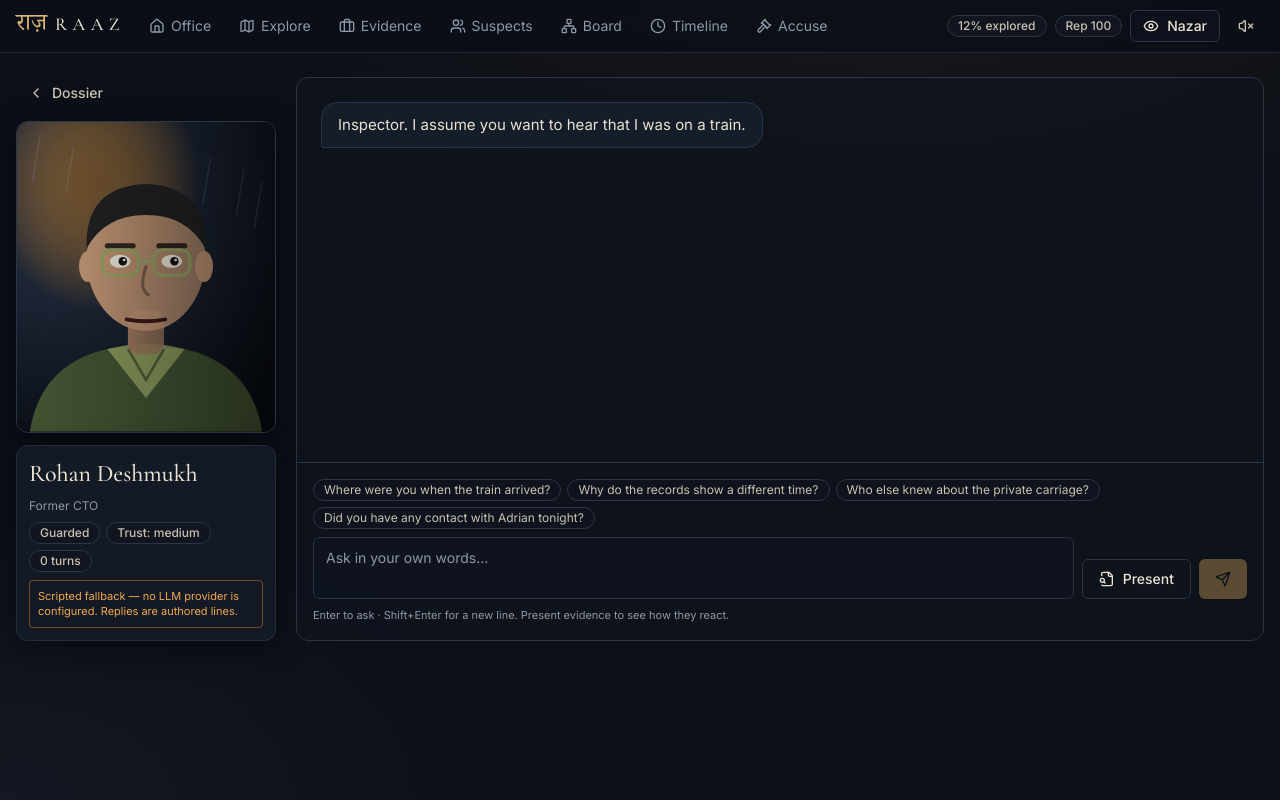
Test case: interrogation › handles a rate-limit or conflict error without losing the typed question flow
Check: the text "Inspector. I assume you want to hear that I was on a train." is shown, box 338,115 -> 746,134
Type "Hello?" into the text box named "Your question" at (693, 568), box 313,537 -> 1074,599
Then press Enter
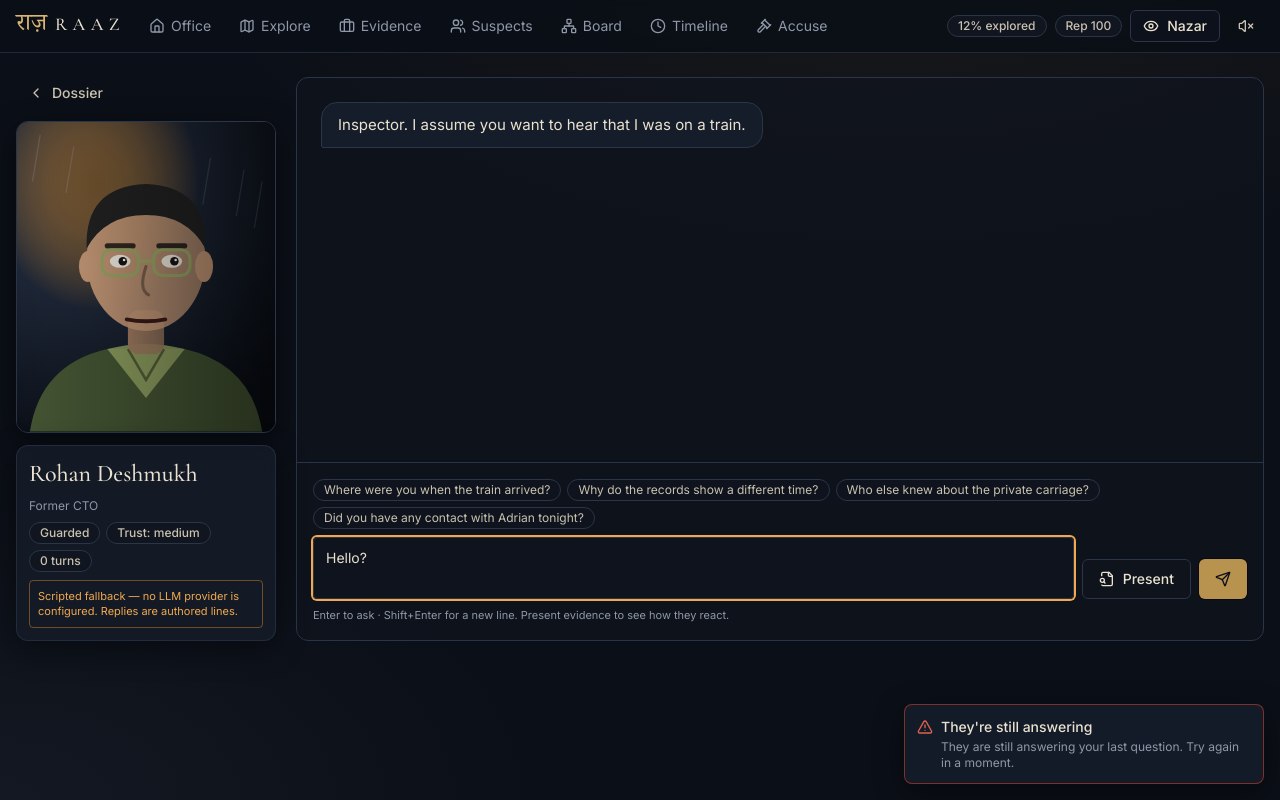
Check: the text "They're still answering" is shown, box 941,718 -> 1092,735
